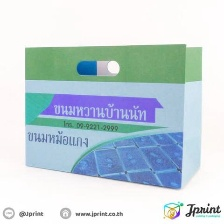snack: (13, 34, 210, 195)
